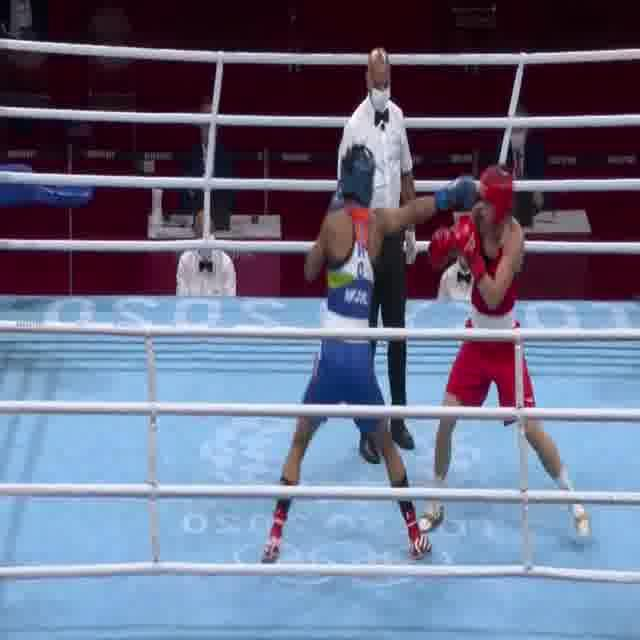blue-player: (253, 142, 481, 566)
red-player: (413, 157, 597, 537)
referee: (332, 44, 421, 470)
